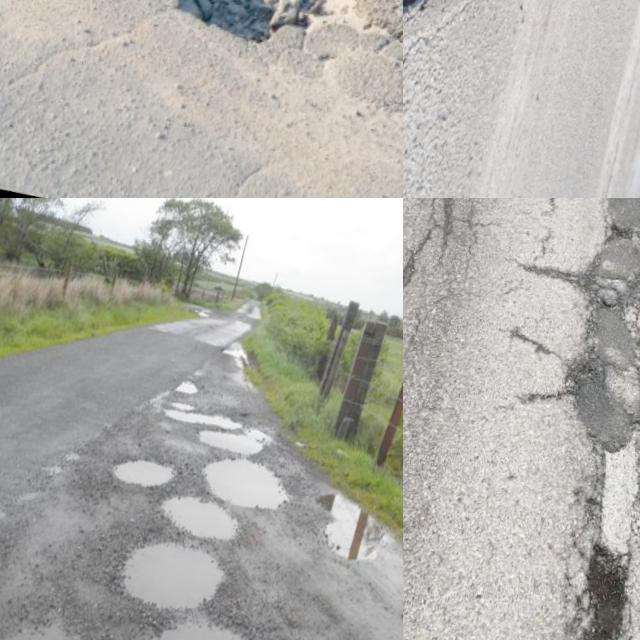Potholes: (0, 0, 403, 159), (54, 497, 374, 640), (73, 420, 306, 610), (510, 206, 640, 498), (134, 368, 293, 497), (403, 0, 575, 119), (284, 473, 403, 632), (517, 503, 640, 640), (206, 326, 265, 396)
